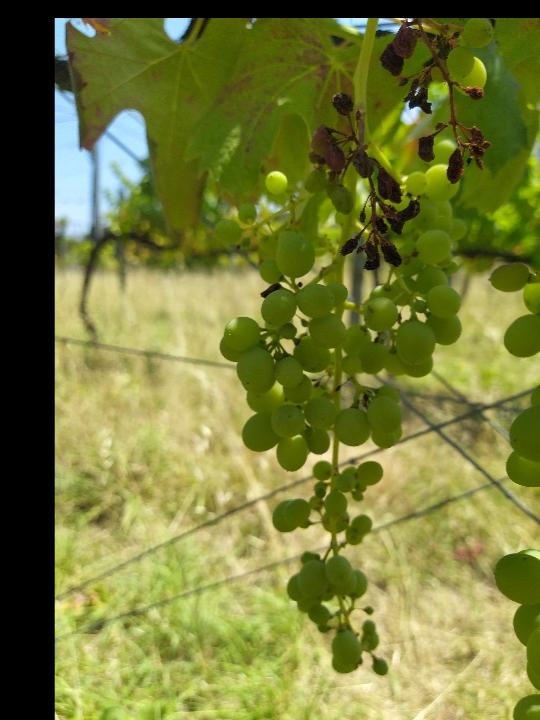grape: (213, 141, 471, 684), (306, 19, 494, 276)
